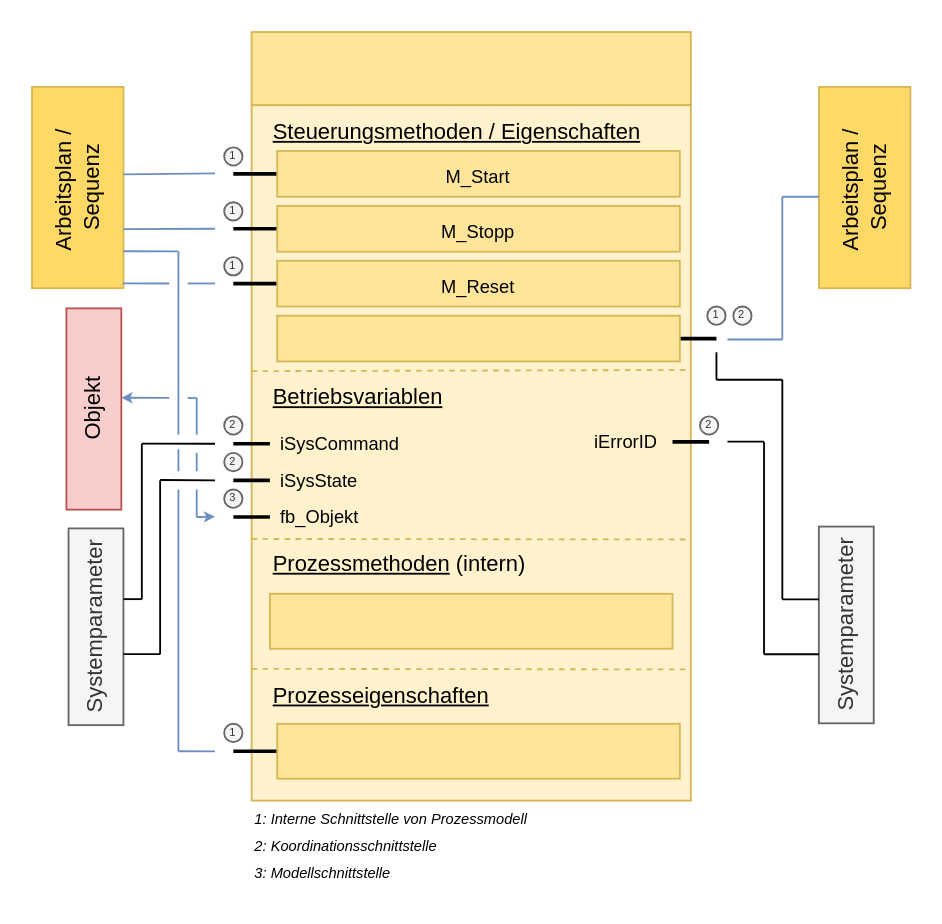
Some shapes in this 942 by 924 pixel diagram are drawn without their labels. The shapes that lost their labels are listed below. From the top down, each one's centre as x and y in pixels, then its label:
At point (470, 67): "Skill".
At point (477, 337): "P_State (GET)".
At point (470, 620): "M_Prozessmethoden".
At point (477, 750): "P_Prozessparameter (SET)".
